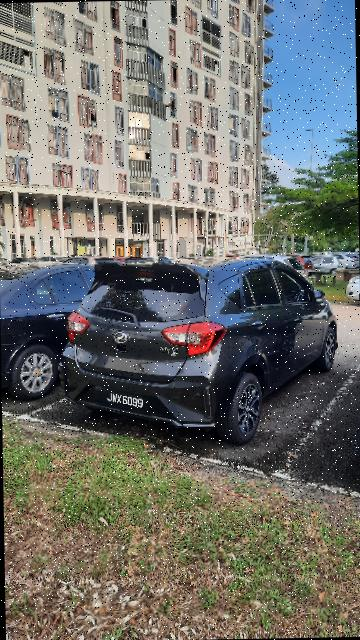License_Plate: (92, 382, 164, 423)
car: (60, 245, 345, 440), (1, 253, 136, 413)
